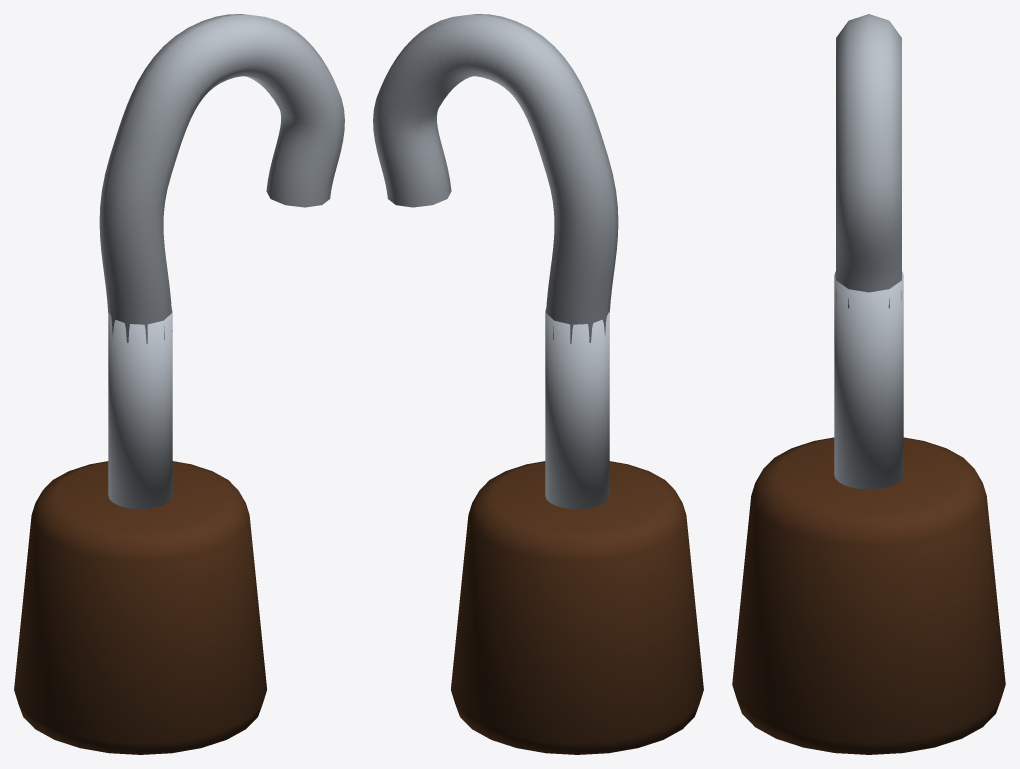
The model's file is garfio.glb.
The picture shows the model from 3 angles, left to right: view 1: azimuth 30°, elevation 25°; view 2: azimuth 150°, elevation 25°; view 3: azimuth 270°, elevation 25°; orthographic projection. The views are drawn at different scales.
Parts seen in each view (by area): view 1: garfio_fijo; view 2: garfio_fijo; view 3: garfio_fijo.
Boxes of the visible parts, x1,y1,x2,y2 form: garfio_fijo: (14,14,344,754); garfio_fijo: (373,14,703,754); garfio_fijo: (732,14,1005,754).
Size of the model in its own units: 0.3341 by 0.6909 by 0.2364.
Materials: 1 (1 with a texture image).
